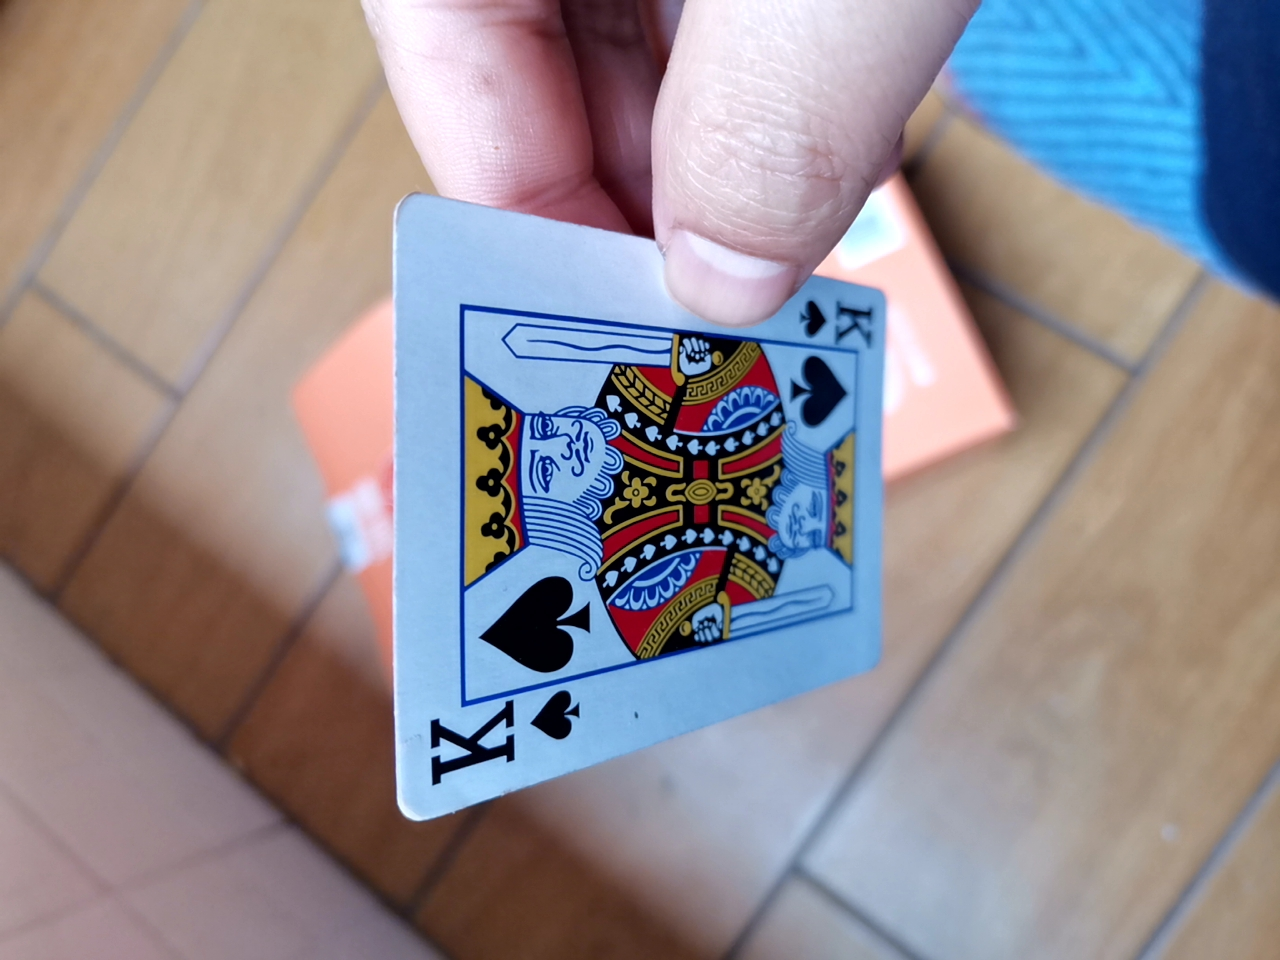ht k: (361, 161, 942, 861)
